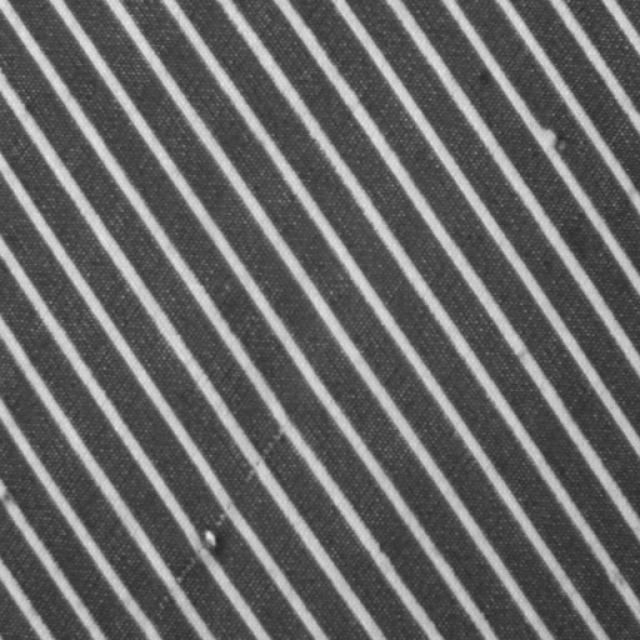Hole-Defect: (156, 409, 304, 614), (529, 122, 572, 156)
